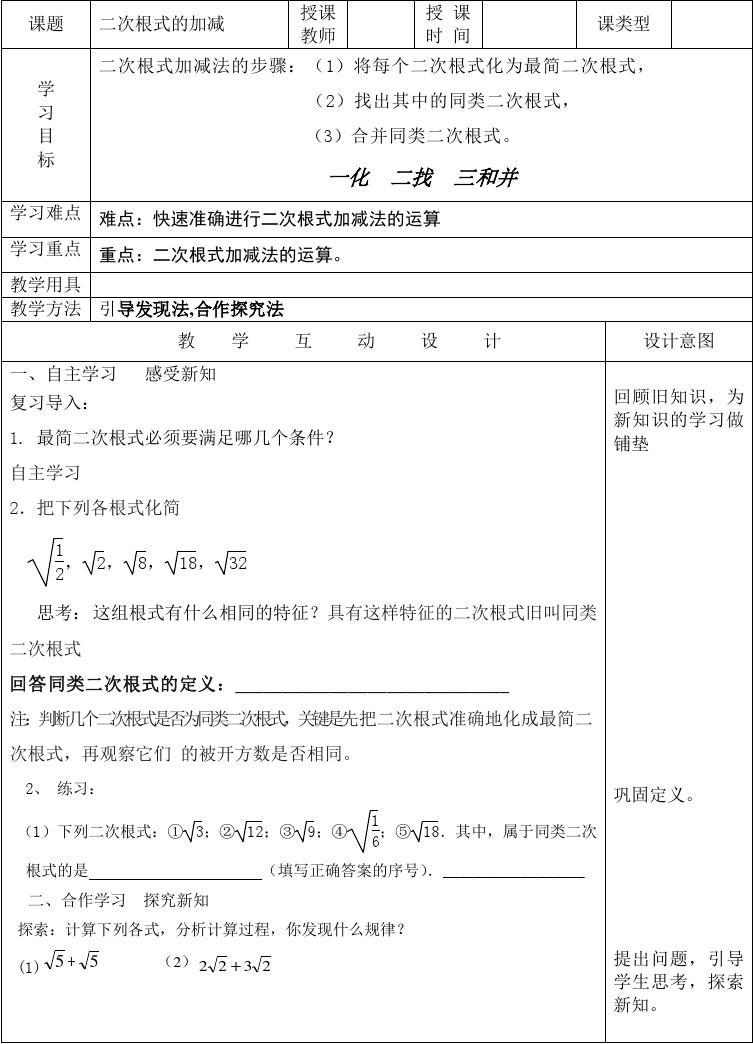division: (366, 824, 383, 836), (53, 558, 67, 566)
sqrt: (27, 530, 67, 595), (353, 799, 381, 859), (81, 539, 112, 587), (122, 541, 152, 585), (219, 541, 248, 580), (413, 810, 438, 852), (169, 548, 205, 577), (201, 945, 227, 982), (256, 952, 281, 978), (83, 949, 108, 973), (239, 820, 267, 841), (191, 814, 206, 849), (299, 817, 317, 843), (49, 948, 69, 971)
